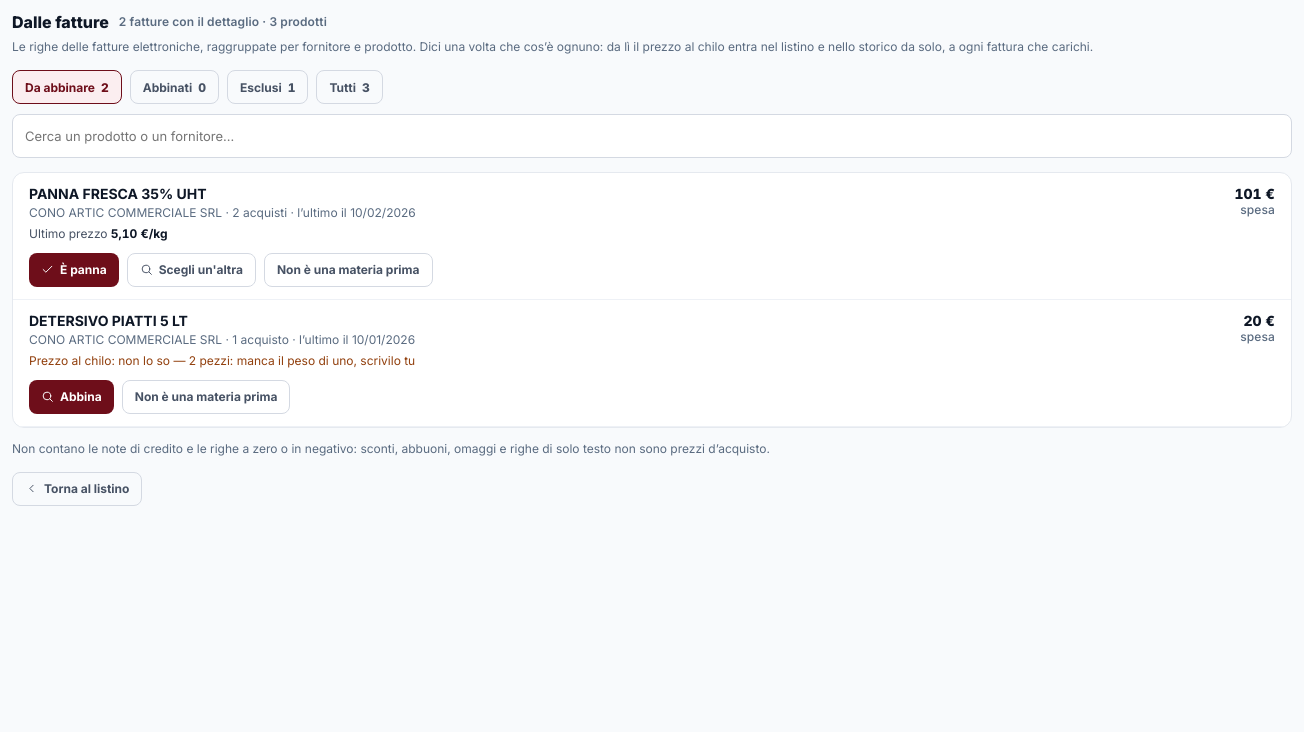
Abbinare scrive mappa, listino e storico insieme › «È panna»: una scrittura sola, e il prezzo nuovo nel listino
This screenshot has width=1304, height=732.
Click the button "È panna" at (74, 270), box [29,253,119,287]
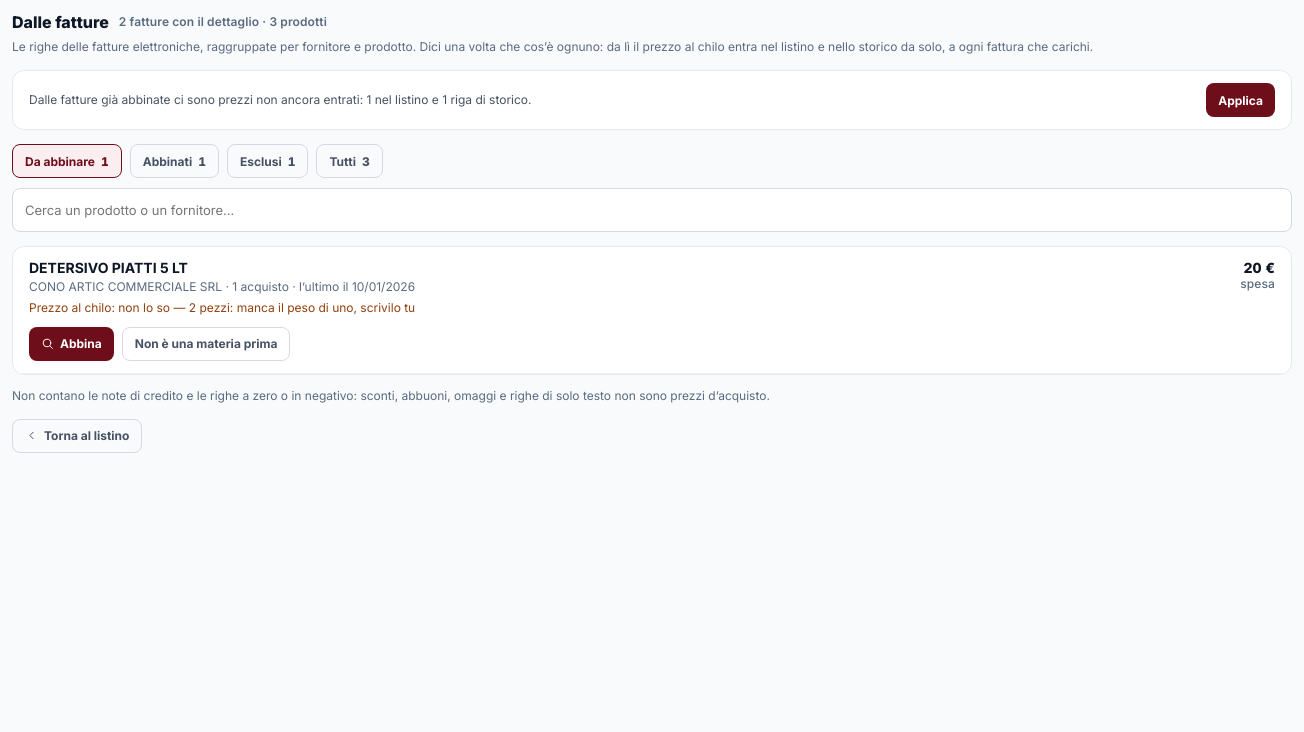
Now the text "Da abbinare 1" is shown, box [12,144,122,178]
